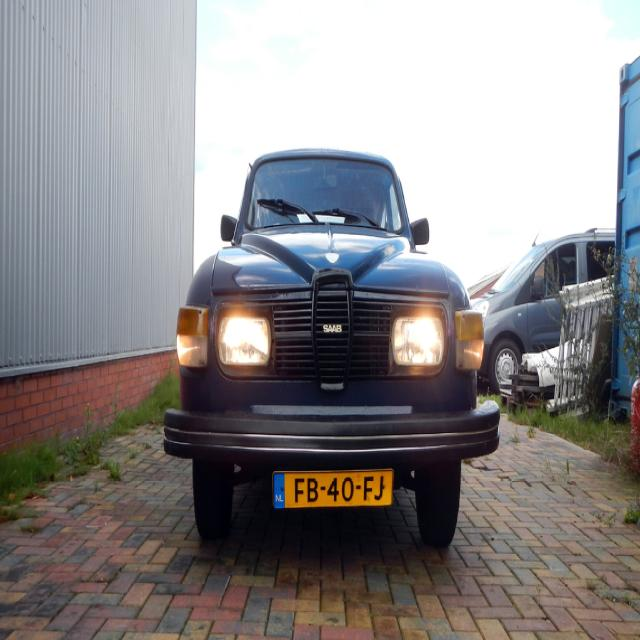car: (162, 144, 497, 546)
